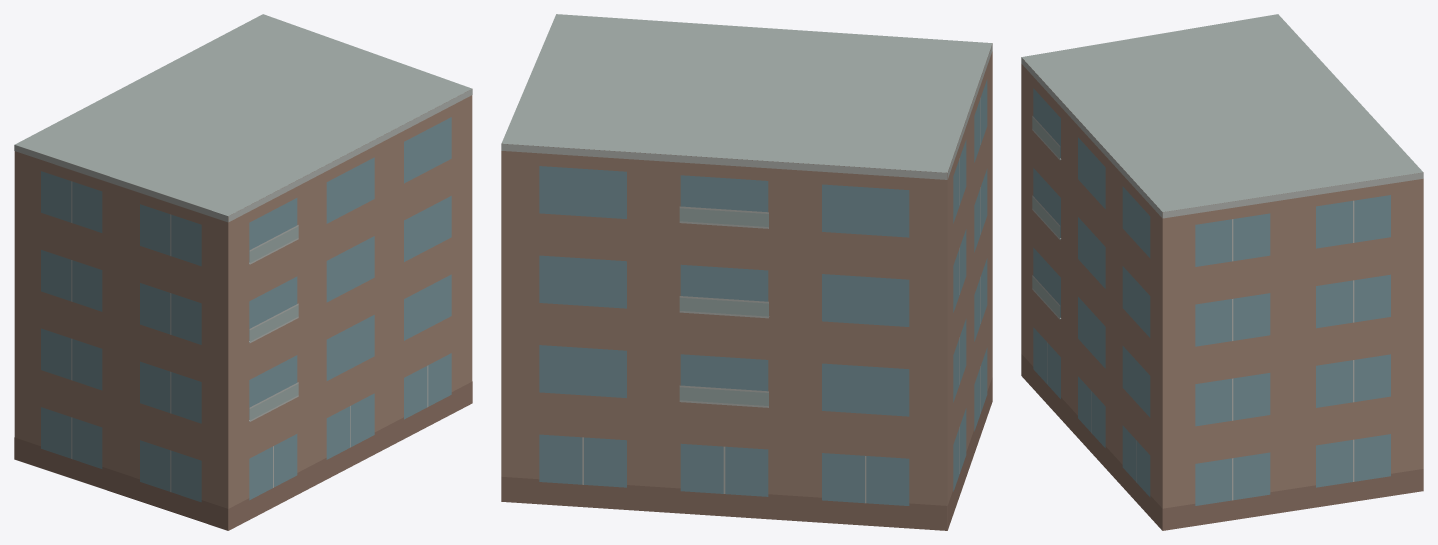
File: residential-ca177be8-7972-4f04-94d6-02ed7e963993.glb
3 renders of one model, left to right at view 1: azimuth 30°, elevation 25°; view 2: azimuth 150°, elevation 25°; view 3: azimuth 270°, elevation 25°, orthographic. The views are drawn at different scales.
Visible parts, largest first — view 1: residential-ca177be8-7972-4f04-94d6-02ed7e963993.tmp; view 2: residential-ca177be8-7972-4f04-94d6-02ed7e963993.tmp; view 3: residential-ca177be8-7972-4f04-94d6-02ed7e963993.tmp.
Boxes of the visible parts, x1,y1,x2,y2 form: residential-ca177be8-7972-4f04-94d6-02ed7e963993.tmp: (14,14,472,530); residential-ca177be8-7972-4f04-94d6-02ed7e963993.tmp: (501,14,992,530); residential-ca177be8-7972-4f04-94d6-02ed7e963993.tmp: (1021,14,1423,530).
Bounding box in the file's own units: 16.28 × 12.2 × 13.96.
